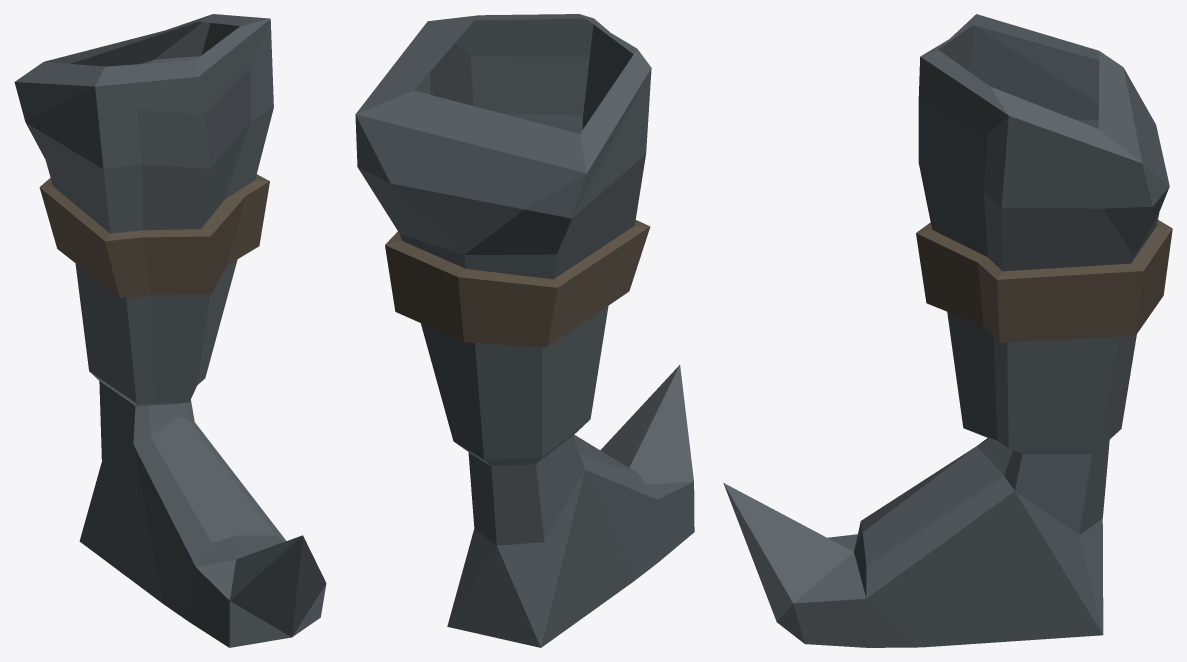
File: Chr_LegLeft_Female_02_Static.fbx
The picture shows the model from 3 angles, left to right: view 1: azimuth 30°, elevation 25°; view 2: azimuth 150°, elevation 25°; view 3: azimuth 270°, elevation 25°; orthographic projection. The views are drawn at different scales.
Visible parts, largest first — view 1: Chr_LegLeft_Female_02_Static; view 2: Chr_LegLeft_Female_02_Static; view 3: Chr_LegLeft_Female_02_Static.
Part boxes in pixels (x1,y1,x2,y2): Chr_LegLeft_Female_02_Static: [14, 14, 326, 647]; Chr_LegLeft_Female_02_Static: [355, 14, 694, 647]; Chr_LegLeft_Female_02_Static: [723, 14, 1172, 647].
Size of the model in its own units: 0.1665 by 0.4043 by 0.2932.
